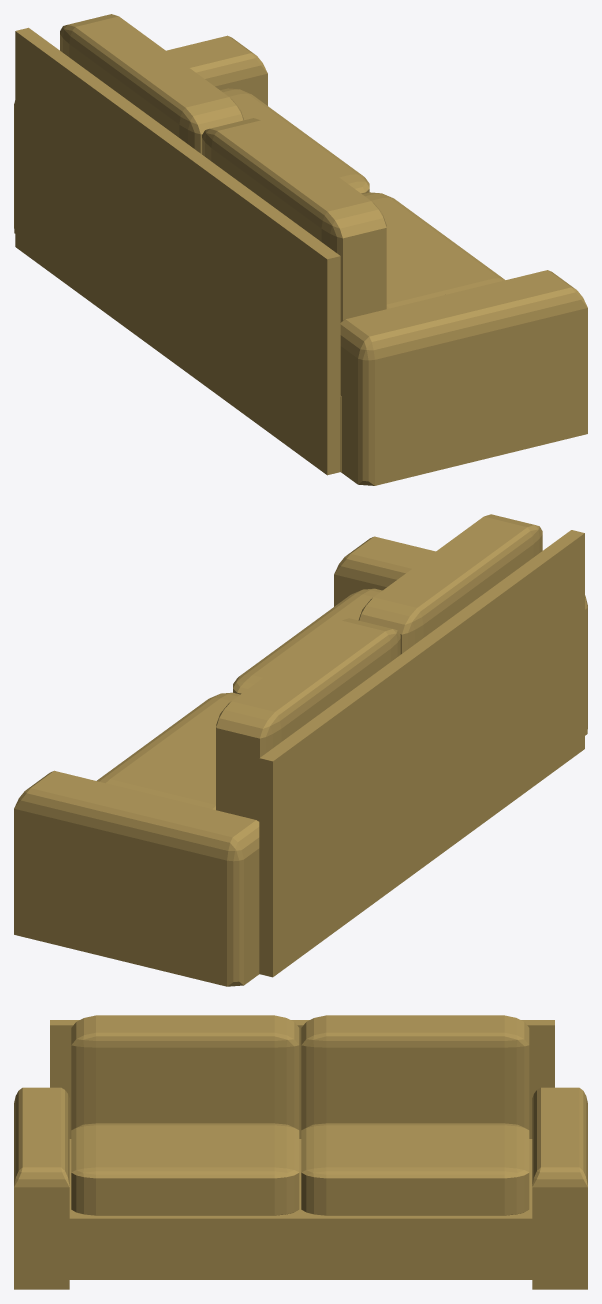
Rendered from Sofa.fbx.
3 views of the same model, one above another, from view 1: azimuth 30°, elevation 25°; view 2: azimuth 150°, elevation 25°; view 3: azimuth 270°, elevation 25° (orthographic). The views are drawn at different scales.
Parts seen in each view (by area): view 1: SofaBack, SofaArms, SofaCushions.001, SofaCushions.002, SofaCushions.004, SofaCushions.003; view 2: SofaBack, SofaArms, SofaCushions.002, SofaCushions.001, SofaCushions.003, SofaCushions.004; view 3: SofaBase, SofaCushions.001, SofaCushions.002, SofaArms, SofaCushions.004, SofaCushions.003, SofaBack.
Boxes of the visible parts, <box> form: SofaBack: <box>15,27,340,475</box>; SofaArms: <box>14,35,587,485</box>; SofaCushions.001: <box>202,118,386,321</box>; SofaCushions.002: <box>60,14,243,154</box>; SofaCushions.004: <box>362,192,505,308</box>; SofaCushions.003: <box>220,88,369,194</box>; SofaBack: <box>259,530,584,977</box>; SofaArms: <box>14,536,587,986</box>; SofaCushions.002: <box>216,618,400,821</box>; SofaCushions.001: <box>358,514,542,654</box>; SofaCushions.003: <box>97,692,240,809</box>; SofaCushions.004: <box>233,588,382,694</box>; SofaBase: <box>69,1139,532,1279</box>; SofaCushions.001: <box>71,1015,299,1129</box>; SofaCushions.002: <box>301,1015,529,1129</box>; SofaArms: <box>14,1087,587,1289</box>; SofaCushions.004: <box>71,1123,299,1215</box>; SofaCushions.003: <box>301,1123,529,1215</box>; SofaBack: <box>50,1020,554,1138</box>.
Size of the model in its own units: 350 by 331 by 901.
